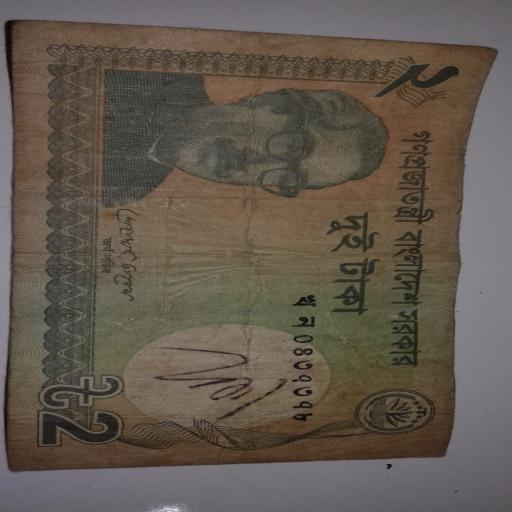2taka: (6, 21, 496, 470)
